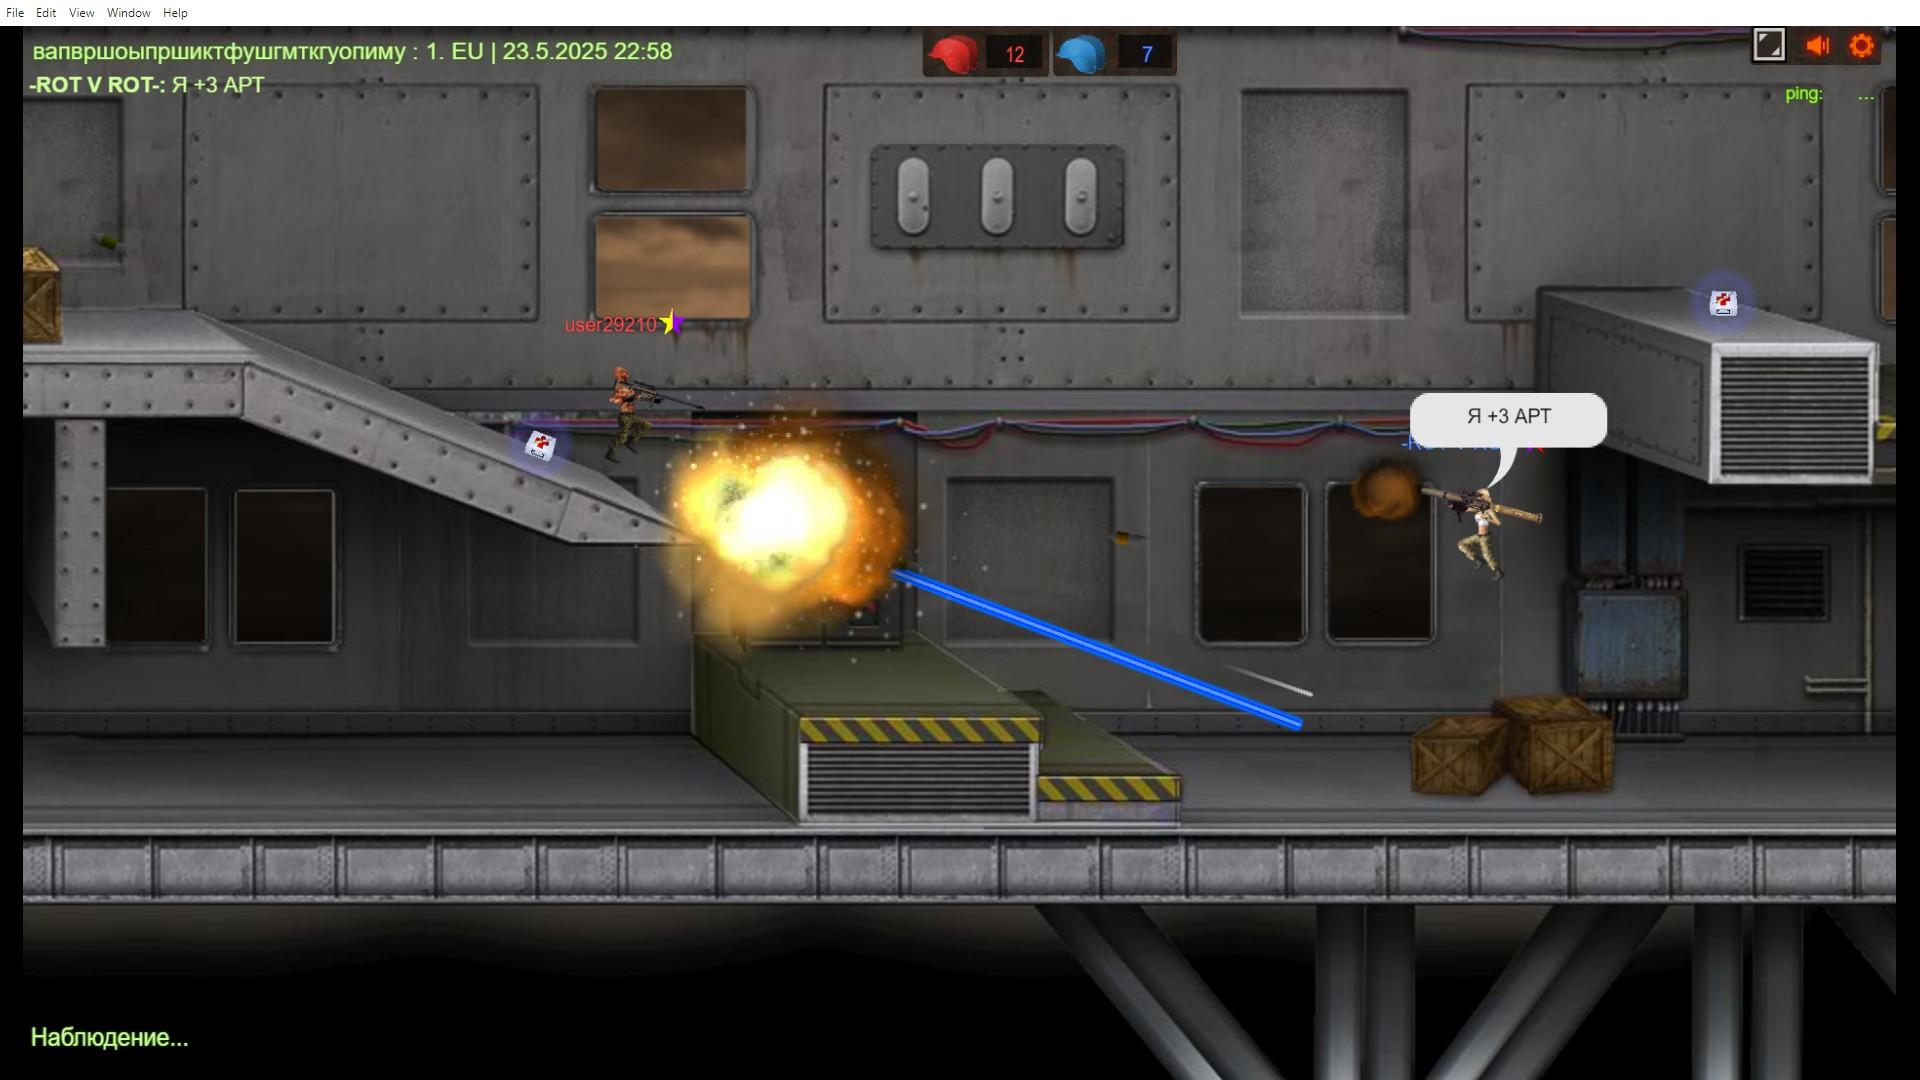enemy: (1455, 485, 1506, 579), (611, 361, 650, 467)
